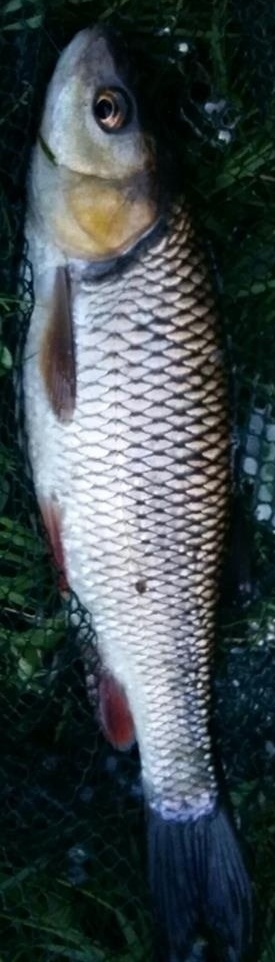Leuciscus cephalus: (20, 20, 255, 962)
